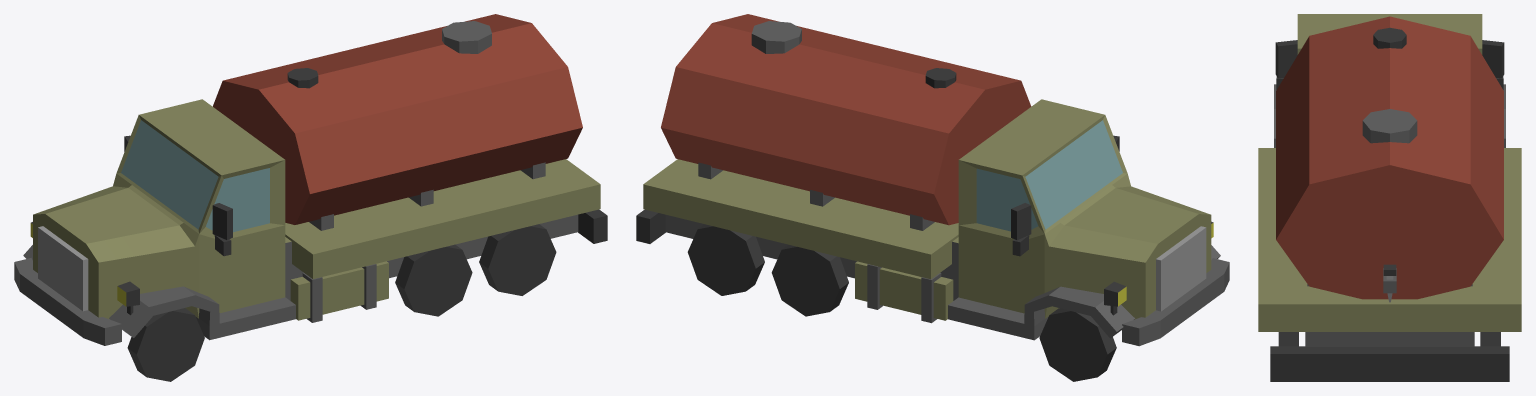
File: TruckNew.glb
3 renders of one model, left to right at view 1: azimuth 30°, elevation 25°; view 2: azimuth 150°, elevation 25°; view 3: azimuth 270°, elevation 25°, orthographic. The views are drawn at different scales.
Visible parts, largest first — view 1: Cube000; view 2: Cube000; view 3: Cube000.
Part boxes in pixels (left/top/right/bottom): Cube000: left=14, top=14, right=607, bottom=381; Cube000: left=636, top=14, right=1229, bottom=381; Cube000: left=1258, top=14, right=1521, bottom=381.
Bounding box in the file's own units: 10.89 × 4.74 × 4.42.
